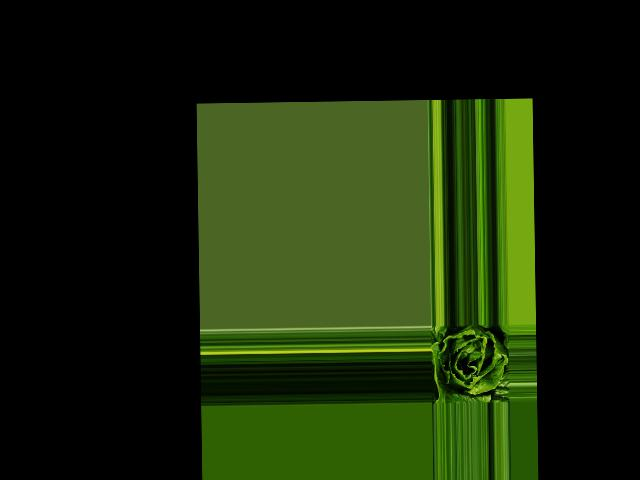lettuce: (431, 325, 509, 404)
